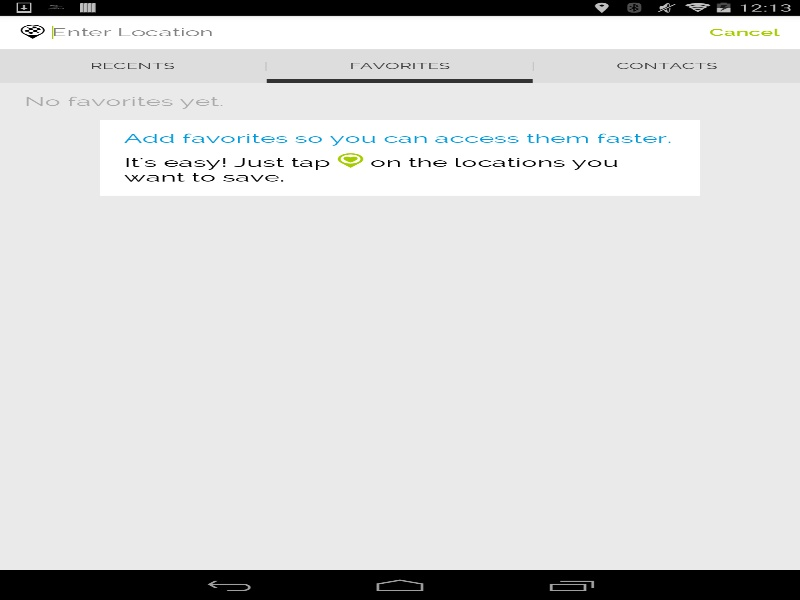Button: (6, 52, 73, 83), (6, 262, 73, 293), (6, 294, 73, 325)
Input: (52, 21, 689, 43)
